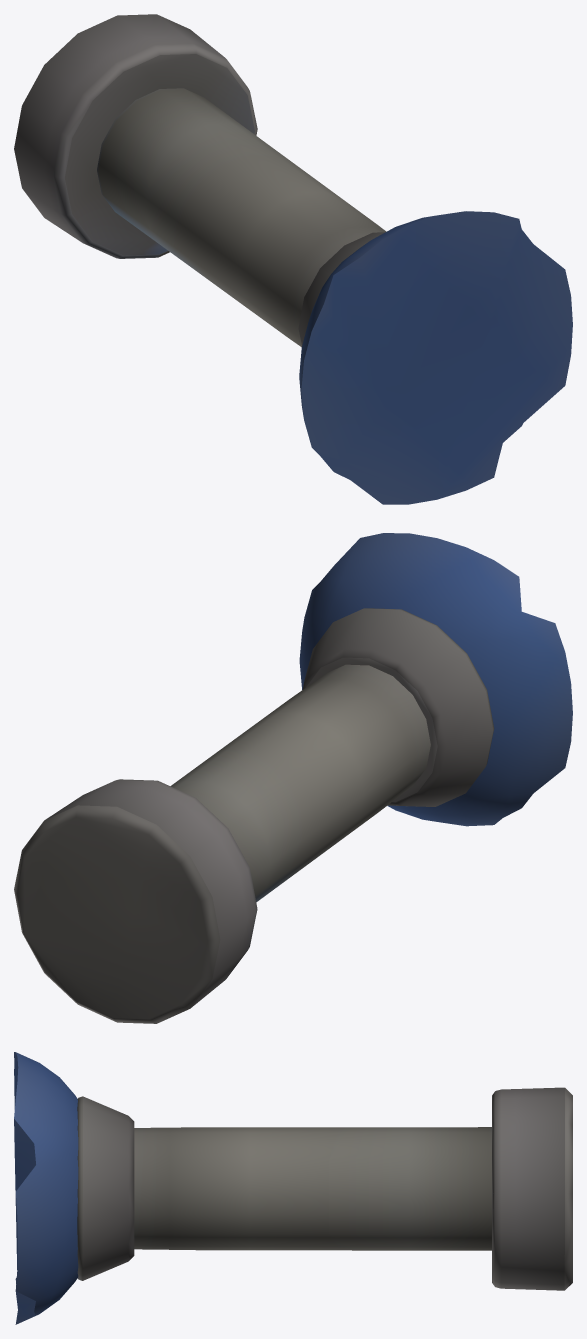
File: quest-blue-upper-left.glb
3 views of the same model, one above another, from view 1: azimuth 30°, elevation 25°; view 2: azimuth 150°, elevation 25°; view 3: azimuth 270°, elevation 25° (orthographic). The views are drawn at different scales.
Visible parts, largest first — view 1: quest-blue-upper-left; view 2: quest-blue-upper-left; view 3: quest-blue-upper-left.
Boxes of the visible parts, box(x1,y1,x2,y2) form: quest-blue-upper-left: box(14, 14, 572, 504); quest-blue-upper-left: box(14, 533, 572, 1023); quest-blue-upper-left: box(14, 1052, 572, 1324).
Bounding box in the file's own units: 0.0886 × 0.0886 × 0.1849.
1 material, 1 textured.
